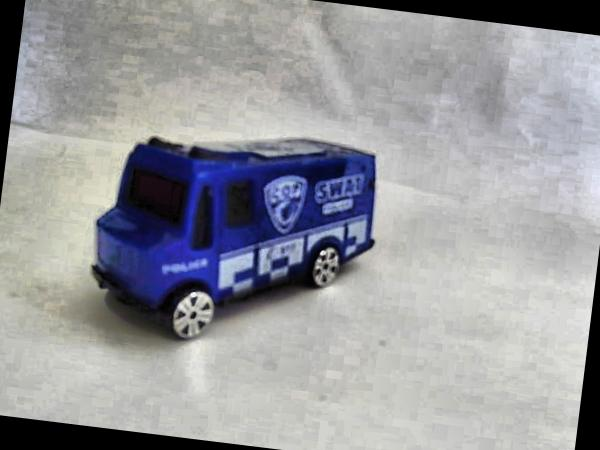police car: (79, 104, 389, 367)
